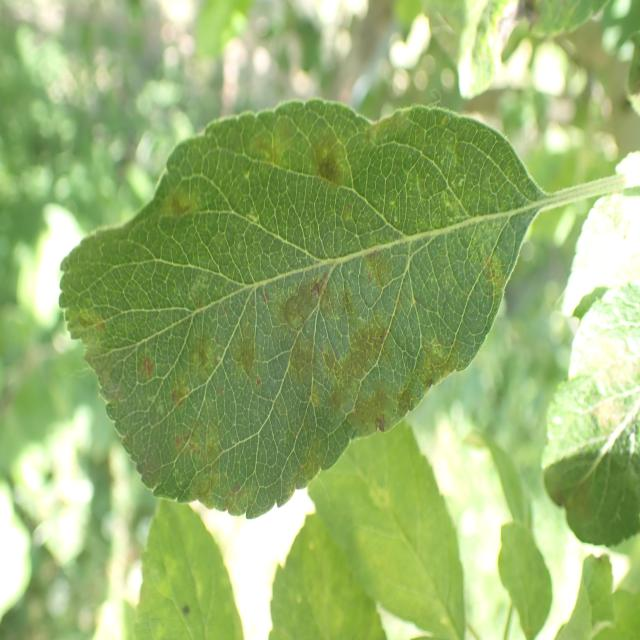scab: (54, 113, 528, 511)
